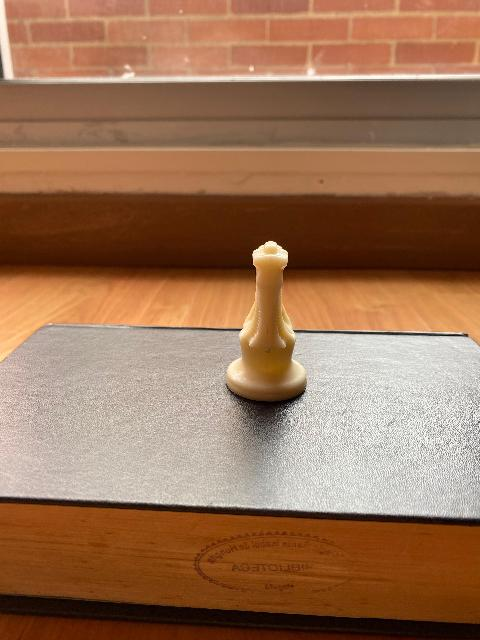white-knight: (226, 240, 308, 402)
